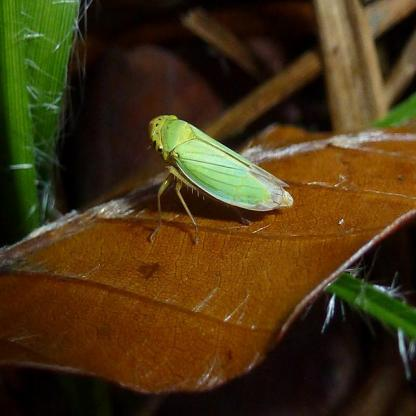Green-Leafhopper: (143, 111, 295, 255)
